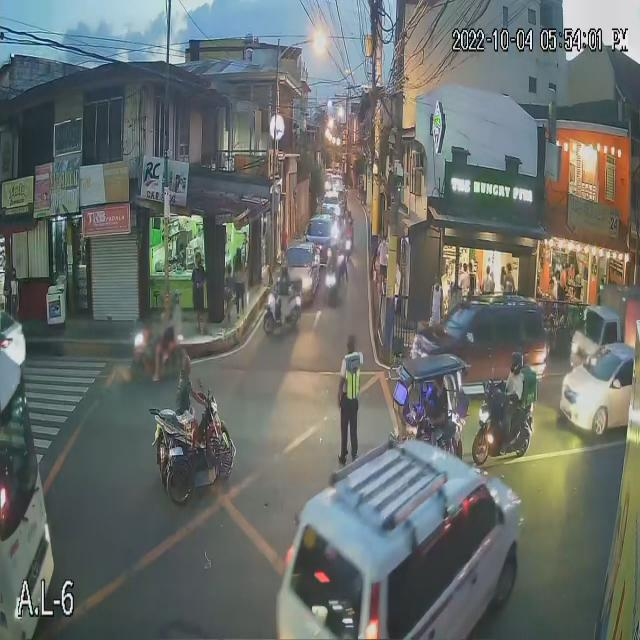helmet: (508, 350, 525, 376)
motorcycle: (473, 401, 535, 463), (263, 290, 305, 330)
rider: (500, 367, 524, 452), (276, 276, 291, 333)
